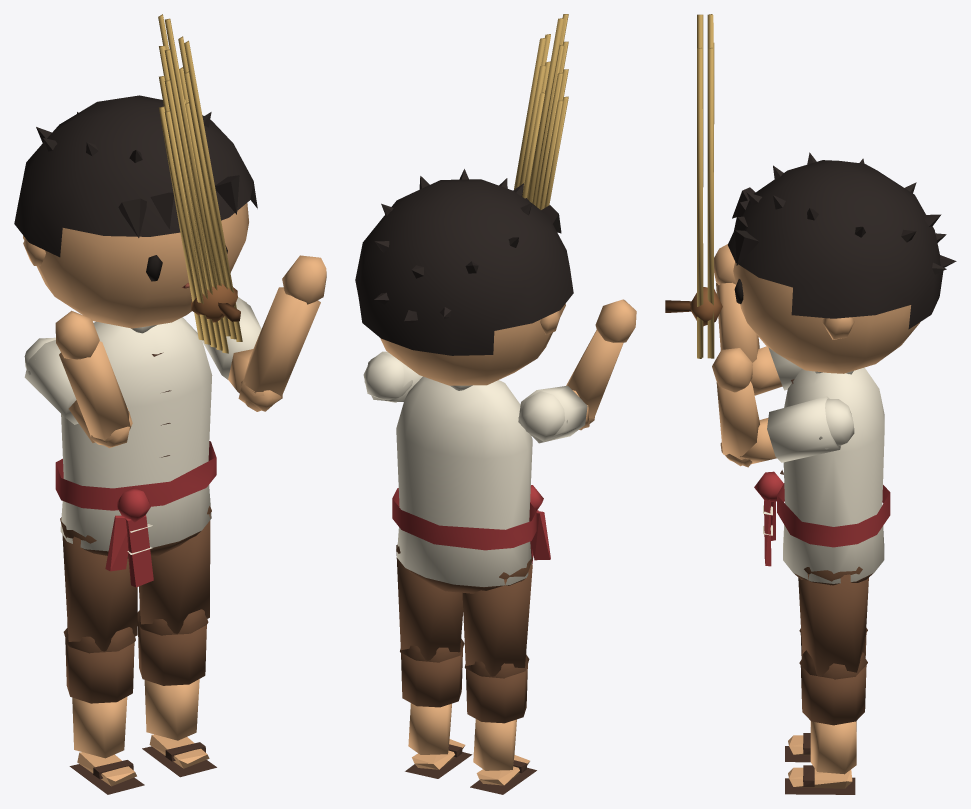
Rendered from isan_khaen_player.glb.
The picture shows the model from 3 angles, left to right: view 1: azimuth 30°, elevation 25°; view 2: azimuth 150°, elevation 25°; view 3: azimuth 270°, elevation 25°; orthographic projection. The views are drawn at different scales.
Parts seen in each view (by area): view 1: head, body, prop_khaen, shin_R, shin_L, leg_R, forearm_L, leg_L, forearm_R, arm_R, arm_L; view 2: head, body, shin_L, shin_R, prop_khaen, leg_R, leg_L, forearm_R, arm_R, arm_L; view 3: head, body, shin_L, leg_L, prop_khaen, arm_L, forearm_L, forearm_R, arm_R, shin_R.
Boxes of the visible parts, <box> form: head: <box>14,95,257,328</box>; body: <box>55,317,216,587</box>; prop_khaen: <box>158,14,242,353</box>; shin_R: <box>65,622,144,794</box>; shin_L: <box>137,604,216,777</box>; leg_R: <box>60,517,137,653</box>; forearm_L: <box>241,255,326,411</box>; leg_L: <box>137,506,211,635</box>; forearm_R: <box>55,310,132,448</box>; arm_R: <box>24,337,129,446</box>; arm_L: <box>201,297,280,411</box>; head: <box>355,169,573,385</box>; body: <box>392,376,550,593</box>; shin_L: <box>401,639,472,778</box>; shin_R: <box>465,653,536,794</box>; prop_khaen: <box>514,14,568,209</box>; leg_R: <box>462,556,532,678</box>; leg_L: <box>396,544,464,662</box>; forearm_R: <box>566,299,636,421</box>; arm_R: <box>518,385,594,443</box>; arm_L: <box>363,351,422,402</box>; head: <box>728,152,956,373</box>; body: <box>754,367,890,585</box>; shin_L: <box>785,650,866,794</box>; leg_L: <box>798,566,868,679</box>; prop_khaen: <box>665,14,722,358</box>; arm_L: <box>720,396,854,467</box>; forearm_L: <box>712,348,759,466</box>; forearm_R: <box>714,244,759,362</box>; arm_R: <box>751,346,801,395</box>; shin_R: <box>785,633,866,762</box>.
Size of the model in its own units: 0.6367 by 1.81 by 0.6481.
